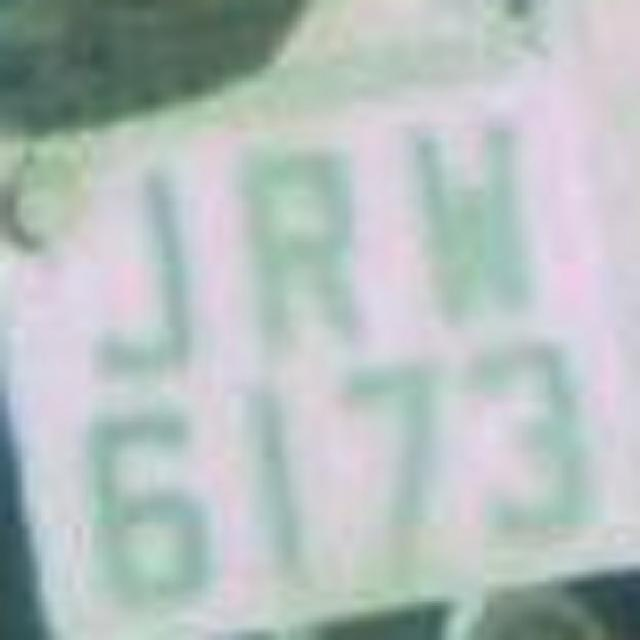3: (440, 308, 620, 548)
6: (68, 376, 240, 629)
7: (328, 344, 464, 571)
B: (215, 120, 380, 365), (388, 88, 540, 324)
J: (76, 168, 216, 392)
R: (232, 144, 376, 368)
